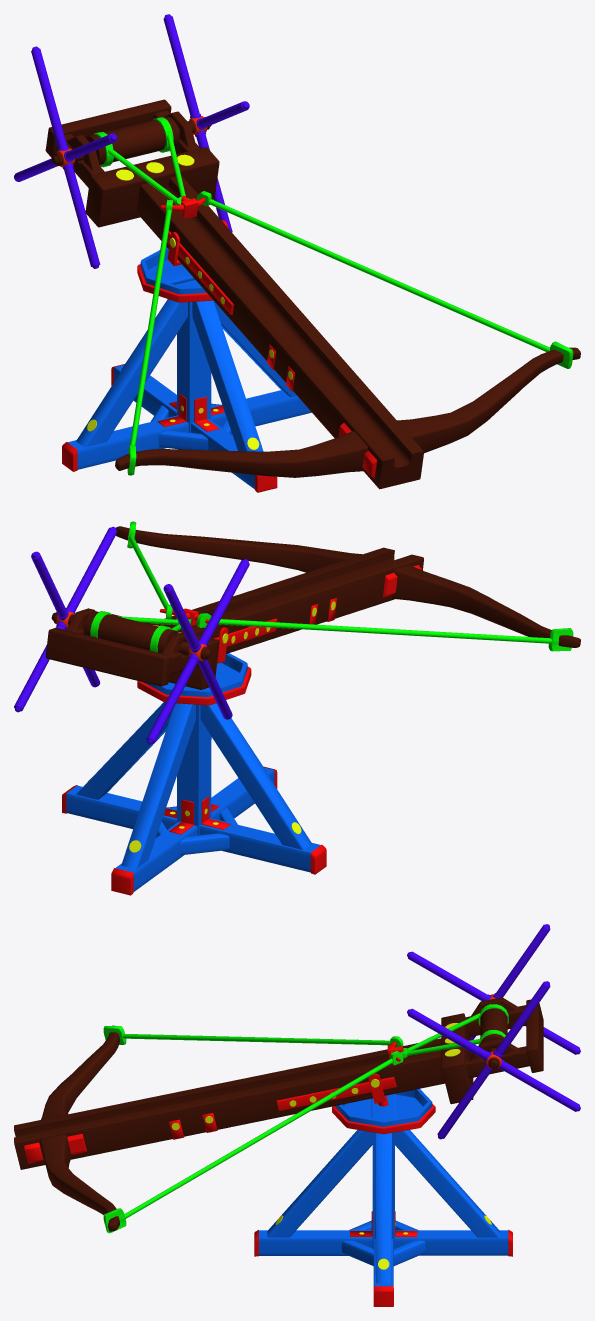
File: BallisteRepaired.fbx
The picture shows the model from 3 angles, top to bottom: view 1: azimuth 30°, elevation 25°; view 2: azimuth 150°, elevation 25°; view 3: azimuth 270°, elevation 25°; orthographic projection. The views are drawn at different scales.
Parts seen in each view (by area): view 1: Object001; view 2: Object001; view 3: Object001.
Part boxes in pixels (x1,y1,x2,y2): Object001: (14,14,580,492); Object001: (14,521,580,895); Object001: (14,924,580,1306).
Size of the model in its own units: 589 by 413 by 708.
